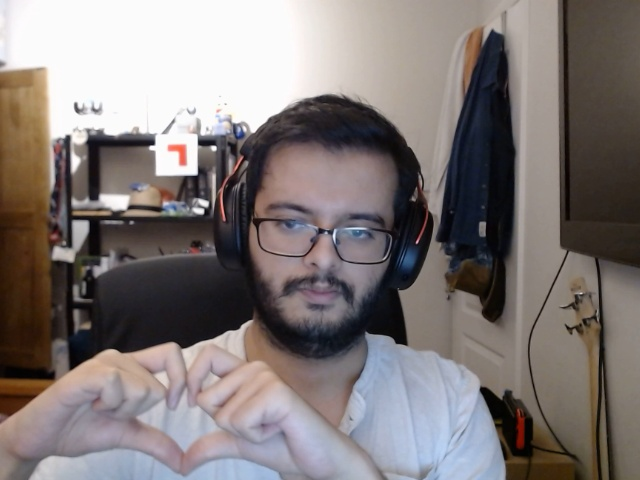Heart: (13, 336, 375, 478)
